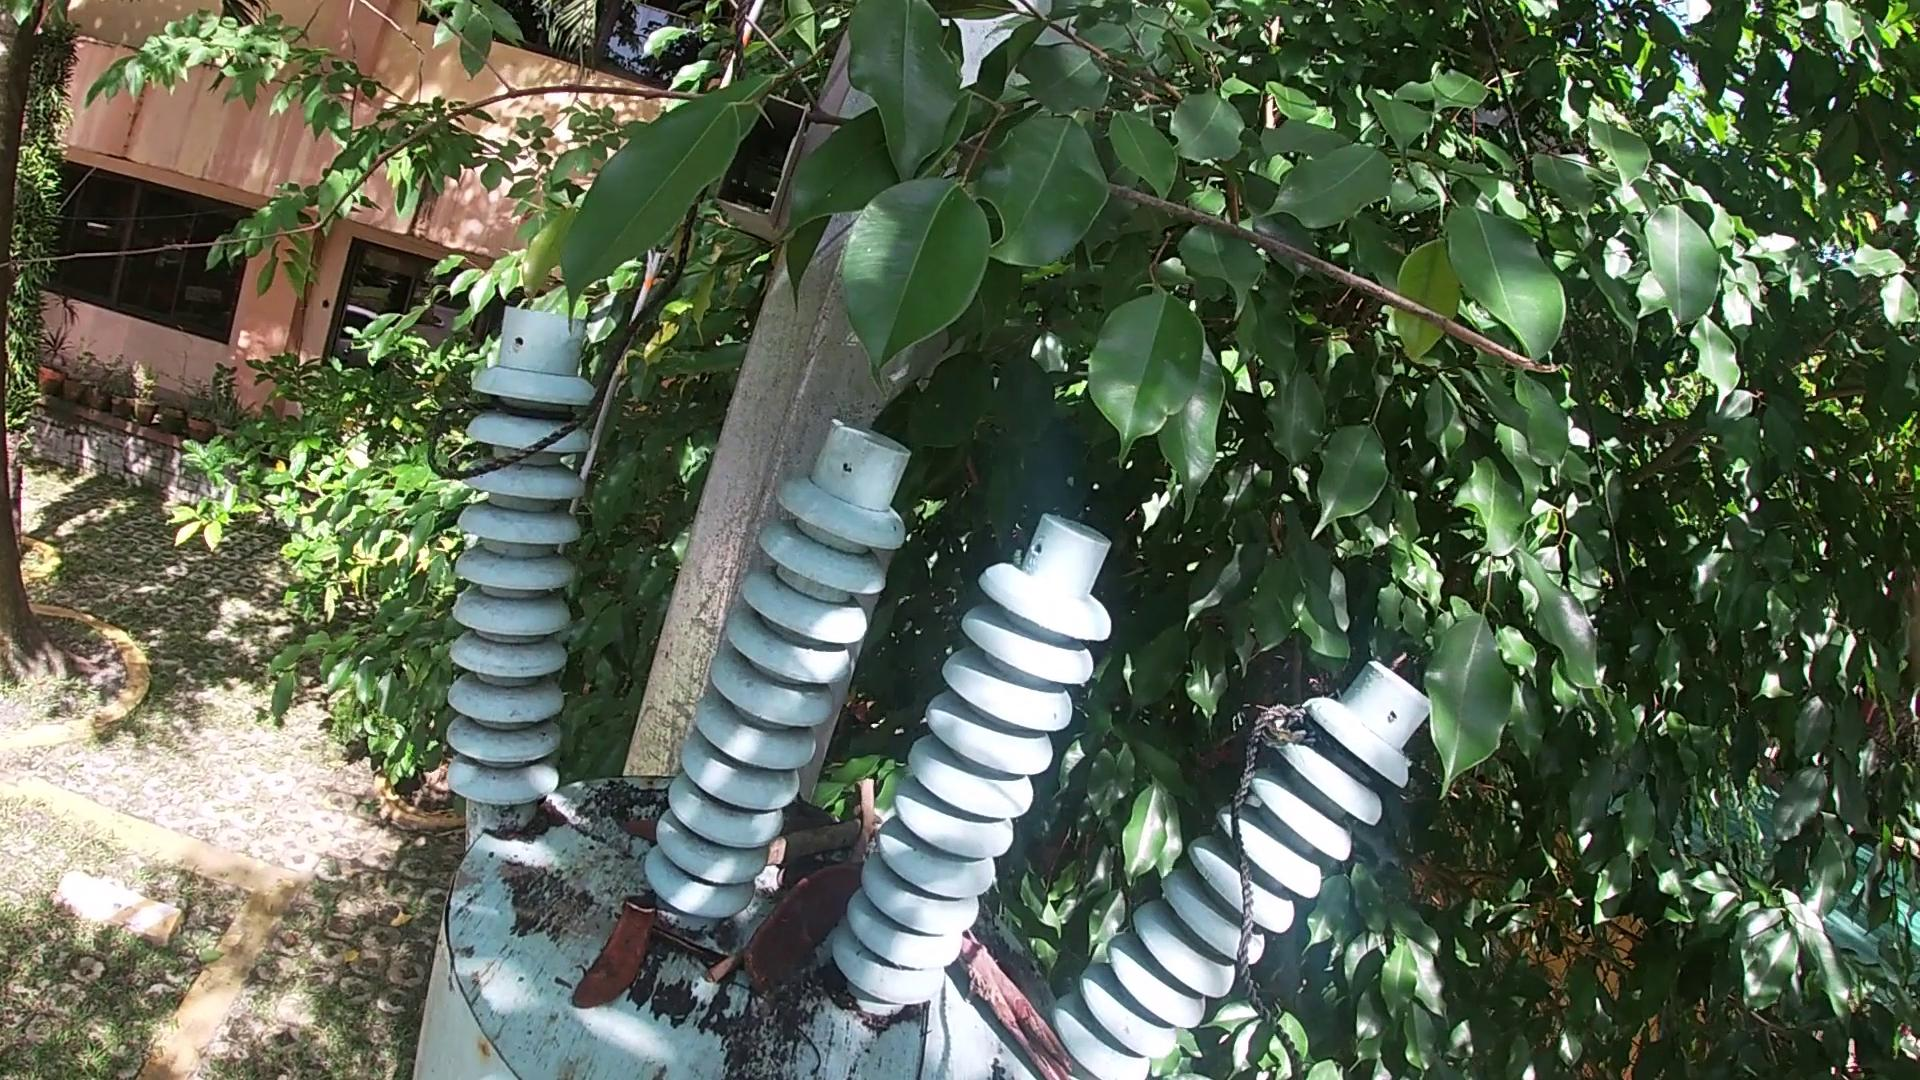mahogany fruit: (749, 866, 856, 1000), (556, 905, 671, 1017)
tree branch: (1, 40, 1581, 384), (953, 922, 1083, 1080), (760, 819, 868, 864), (702, 945, 748, 988), (861, 770, 880, 865)
